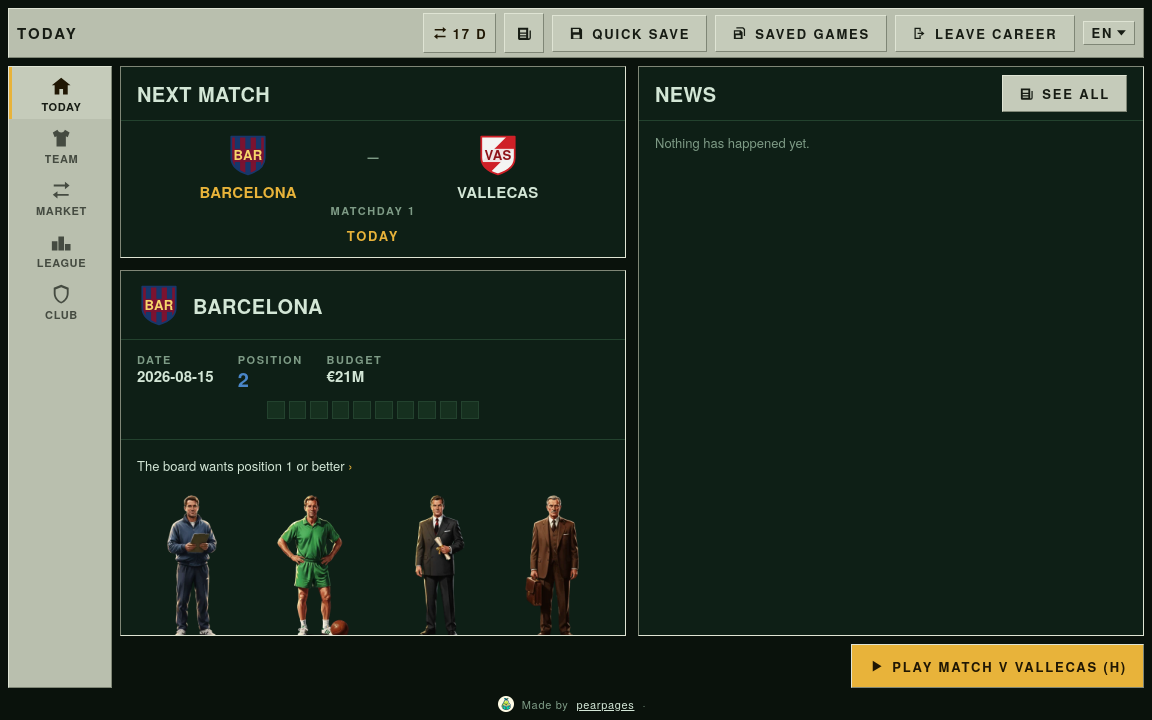
Test: the market screen › shows a refusal instead of crashing
Click the button "Market".
click(60, 197)  # box [9,171,111,223]
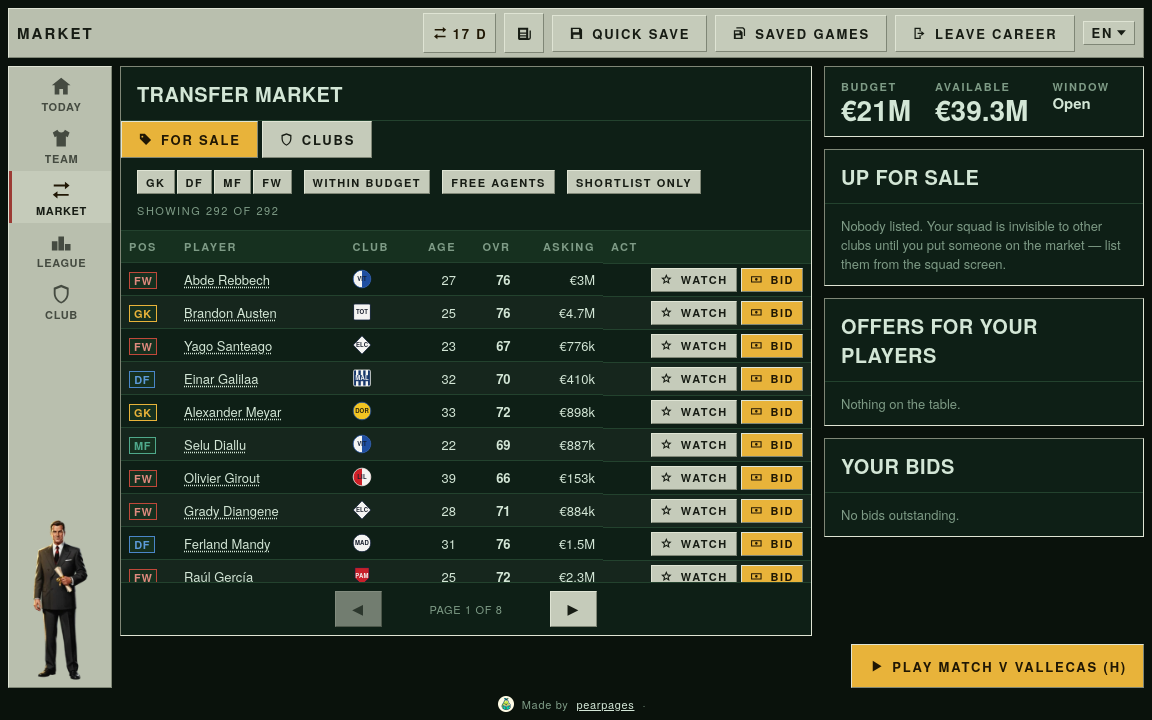
Click the button "Bid" in the row of "27".
click(772, 280)  # box [741,268,803,292]
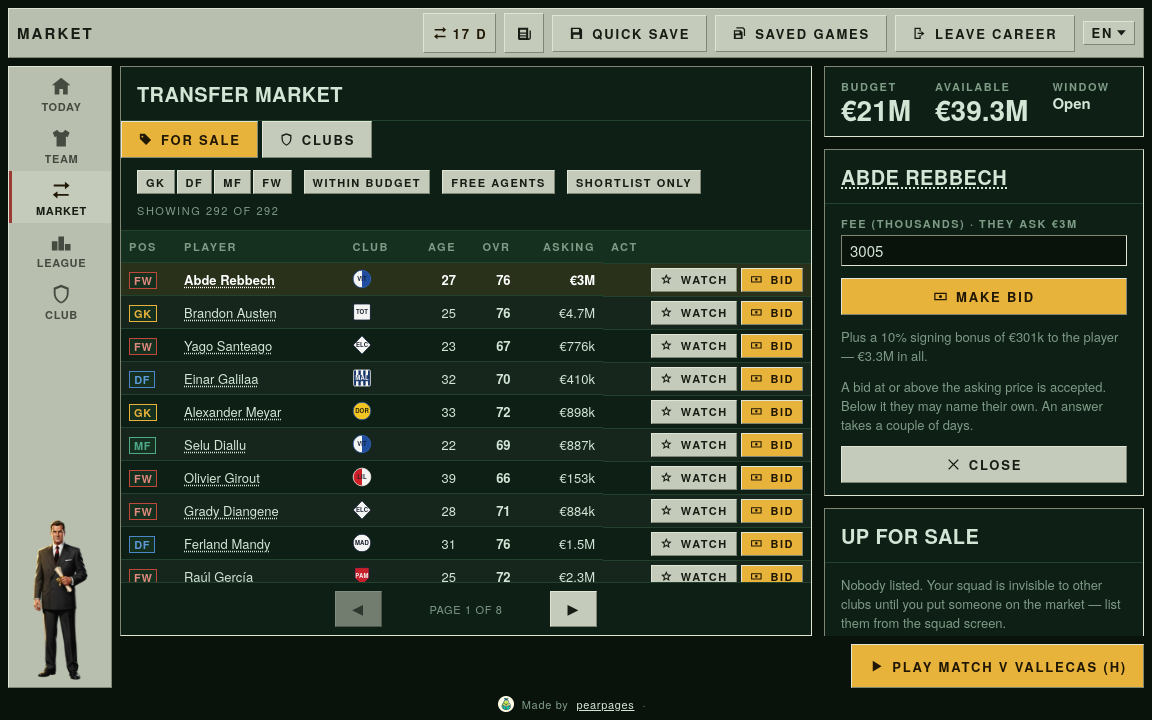
Replace the text in the number field labelled "Fee (thousands) · they ask €3M" with "99999999" at [984, 250], box [841,235,1127,266]
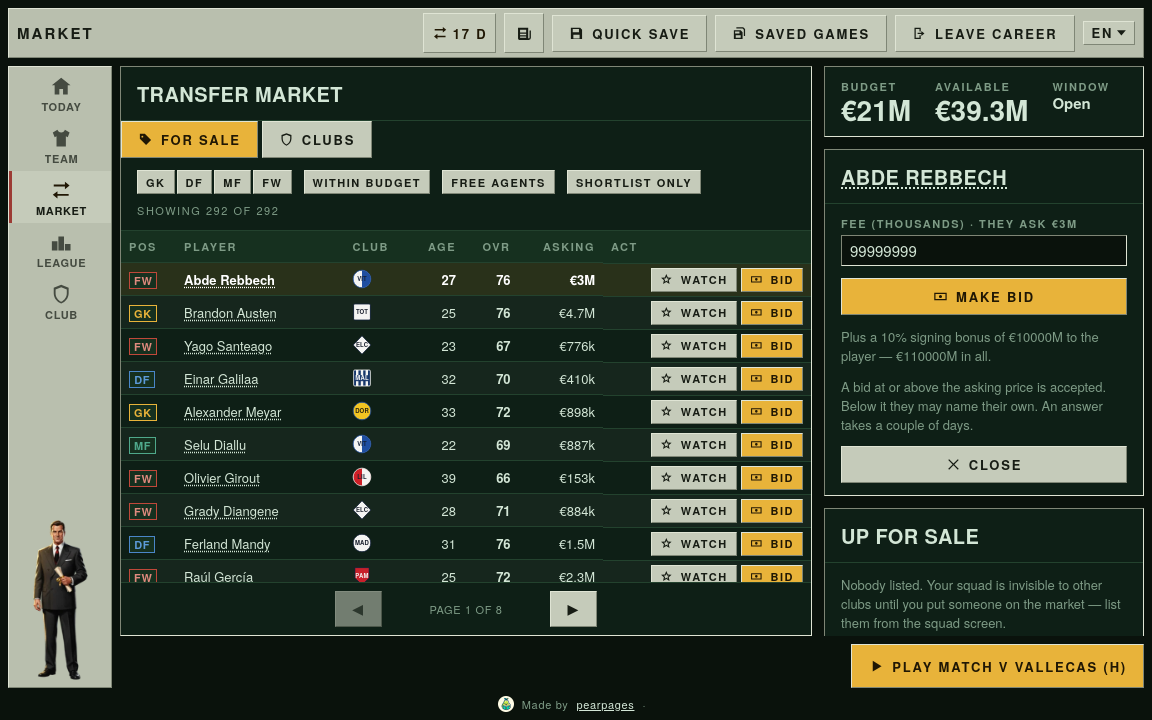
Click the button "Make bid".
click(984, 296)  # box [841,278,1127,315]
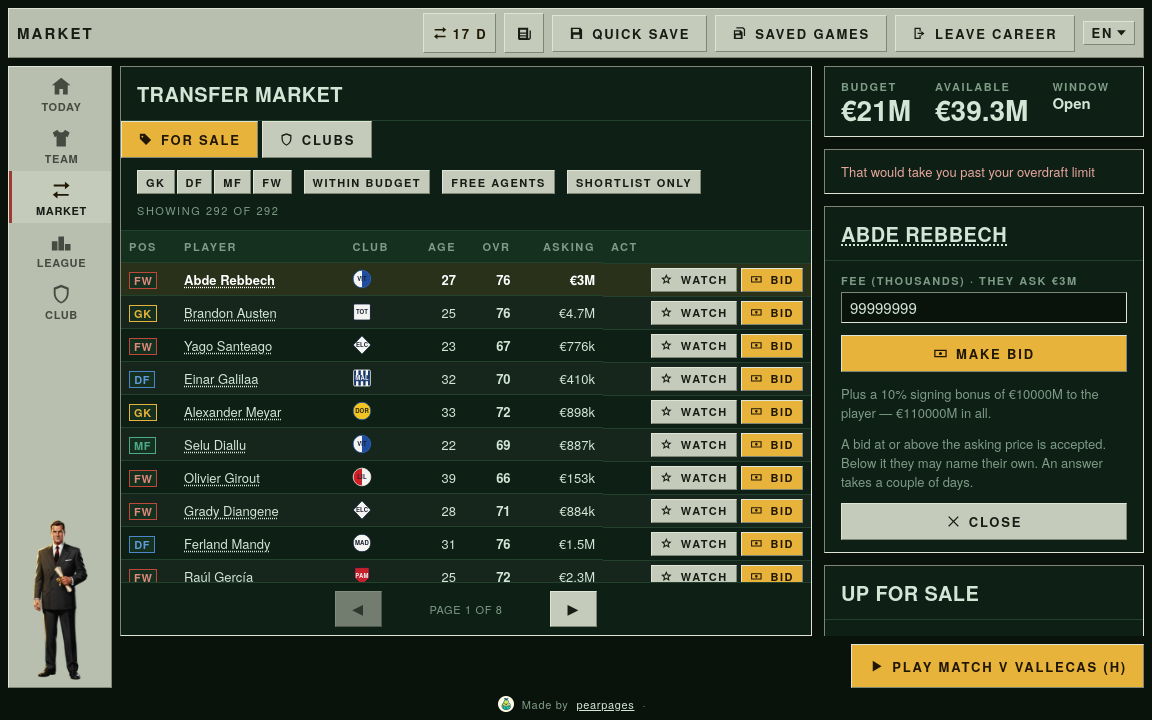
Now the message "That would take you past your overdraft limit" is shown, box [841,162,1095,181]
